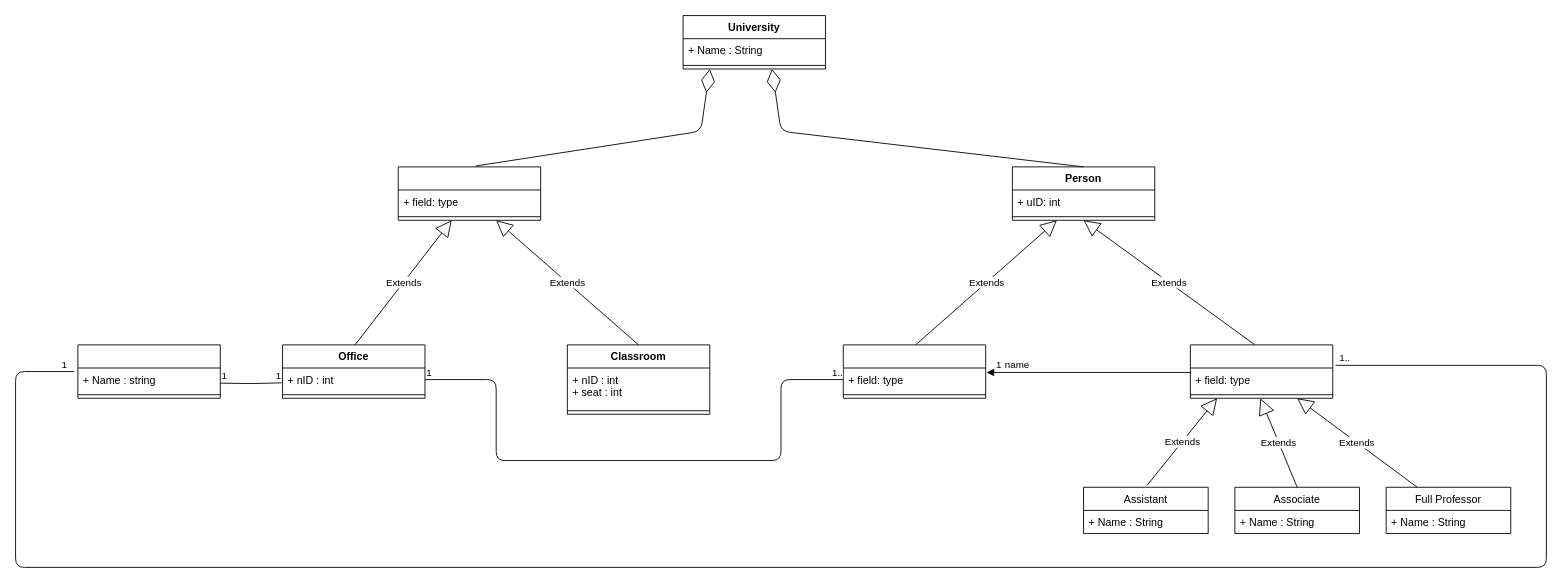
The diagram is 1563 pixels wide and 584 high, and some of its shapes have lost their labels. The shapes that lost their labels are listed below. From the top down, each one's box as (x1, y1, x2, y2) in pixels, then its label:
(397, 166, 541, 220): Room
(77, 344, 220, 398): Department
(842, 344, 986, 398): Employee
(1189, 344, 1333, 398): Professor
